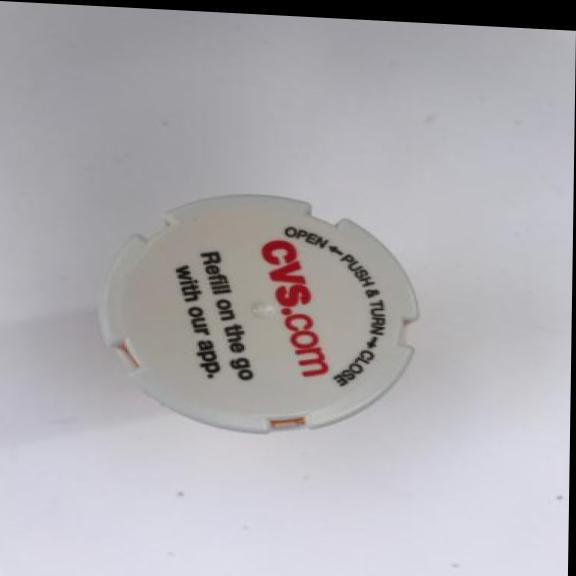Plastik: (100, 181, 429, 441)
